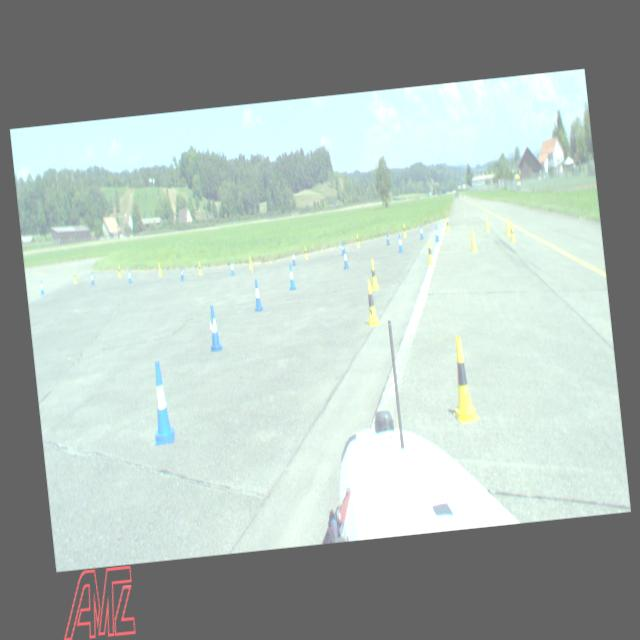blue_cone: (146, 359, 176, 444), (206, 305, 223, 351), (252, 278, 262, 312), (287, 263, 296, 290), (342, 248, 348, 268), (397, 233, 403, 252), (418, 224, 424, 240), (229, 260, 235, 276), (434, 224, 439, 242), (291, 250, 296, 266), (39, 280, 44, 294), (179, 266, 184, 280), (127, 268, 132, 282), (90, 271, 95, 284), (340, 241, 344, 255), (385, 231, 389, 244)
yellow_cone: (444, 334, 479, 424), (362, 278, 381, 326), (368, 257, 379, 290), (425, 239, 434, 264), (469, 229, 477, 251), (508, 222, 516, 242), (504, 218, 510, 234), (484, 216, 490, 231), (444, 217, 450, 231), (116, 264, 122, 276), (72, 270, 77, 283), (158, 262, 162, 276), (356, 233, 360, 246), (198, 262, 202, 274), (402, 224, 406, 236), (304, 246, 308, 258), (248, 256, 252, 268)
